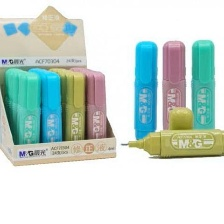book: (0, 1, 120, 168)
correction_fluid: (118, 127, 224, 161), (129, 37, 160, 146), (188, 36, 218, 147), (160, 36, 188, 145), (60, 71, 90, 156), (14, 70, 43, 157), (35, 70, 64, 153), (83, 69, 108, 153)
